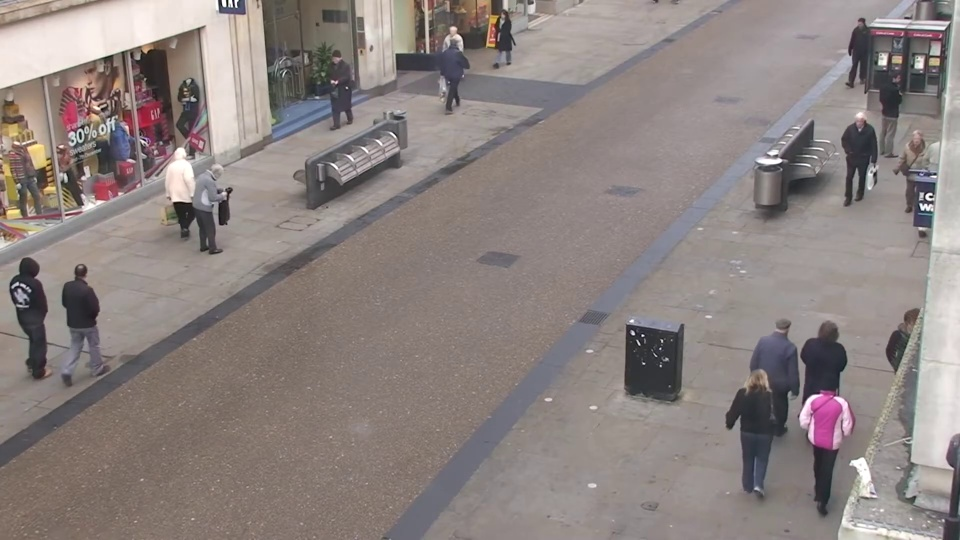pedestrian: (800, 353, 859, 513), (878, 308, 940, 458), (726, 354, 783, 513), (797, 310, 853, 458), (11, 248, 73, 377), (758, 300, 811, 445), (70, 251, 127, 380), (911, 124, 959, 226), (887, 127, 933, 229), (201, 158, 242, 263), (172, 142, 212, 242), (834, 113, 874, 210), (872, 67, 911, 154), (839, 16, 871, 90), (320, 49, 349, 125), (445, 32, 470, 104), (438, 23, 463, 92), (489, 8, 513, 73)
